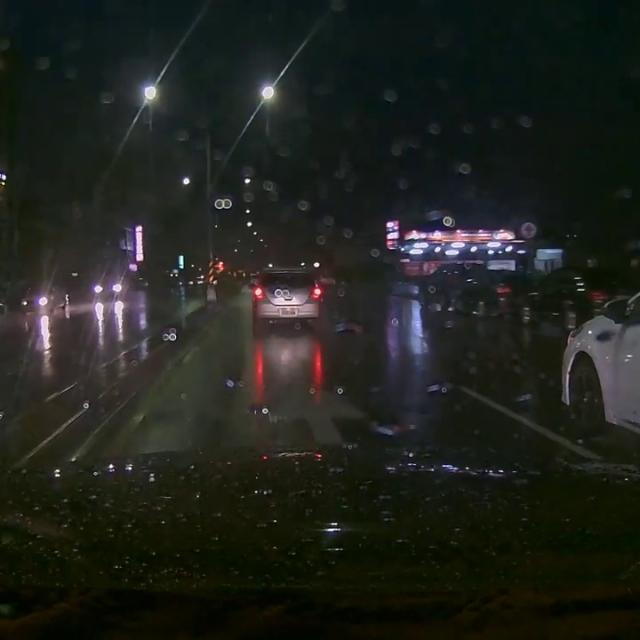Car: (557, 285, 639, 447), (517, 265, 623, 331), (248, 266, 322, 336), (457, 267, 535, 320), (418, 261, 481, 304), (15, 279, 66, 312), (88, 271, 130, 301)
